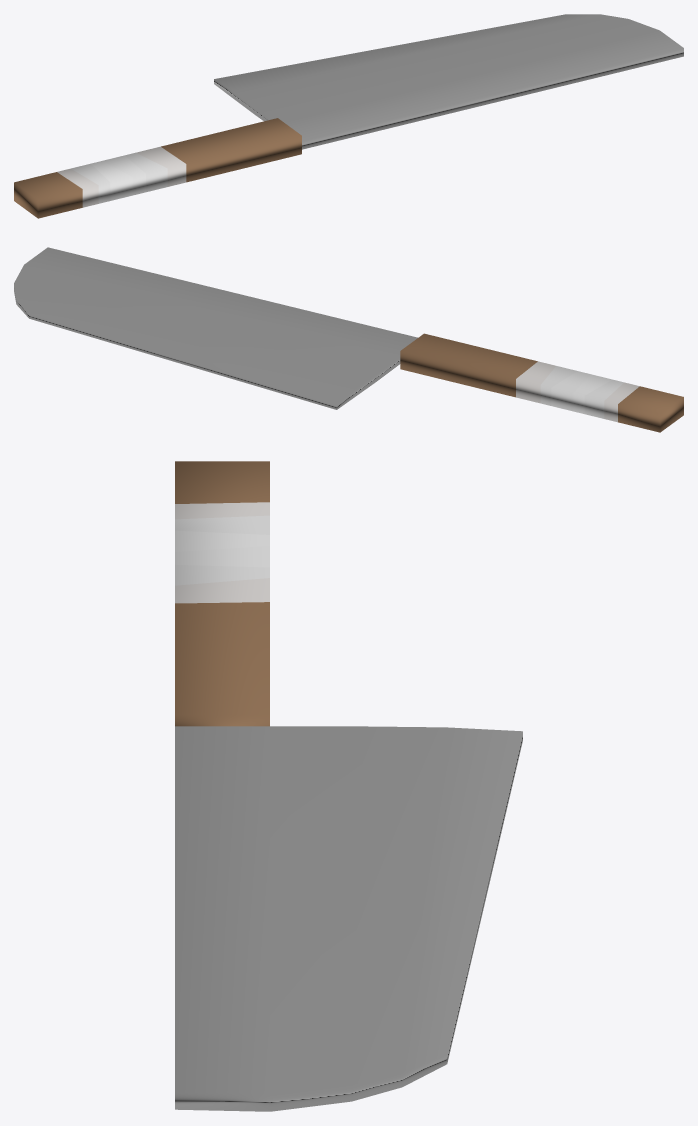
The model's file is knife.fbx.
3 views of the same model, one above another, from view 1: azimuth 30°, elevation 25°; view 2: azimuth 150°, elevation 25°; view 3: azimuth 270°, elevation 25° (orthographic). The views are drawn at different scales.
Parts seen in each view (by area): view 1: pCube1; view 2: pCube1; view 3: pCube1.
Part boxes in pixels (x1,y1,x2,y2): pCube1: (14,14,683,218); pCube1: (14,247,683,432); pCube1: (175,461,522,1111).
Size of the model in its own units: 55.53 by 1.53 by 13.15.
